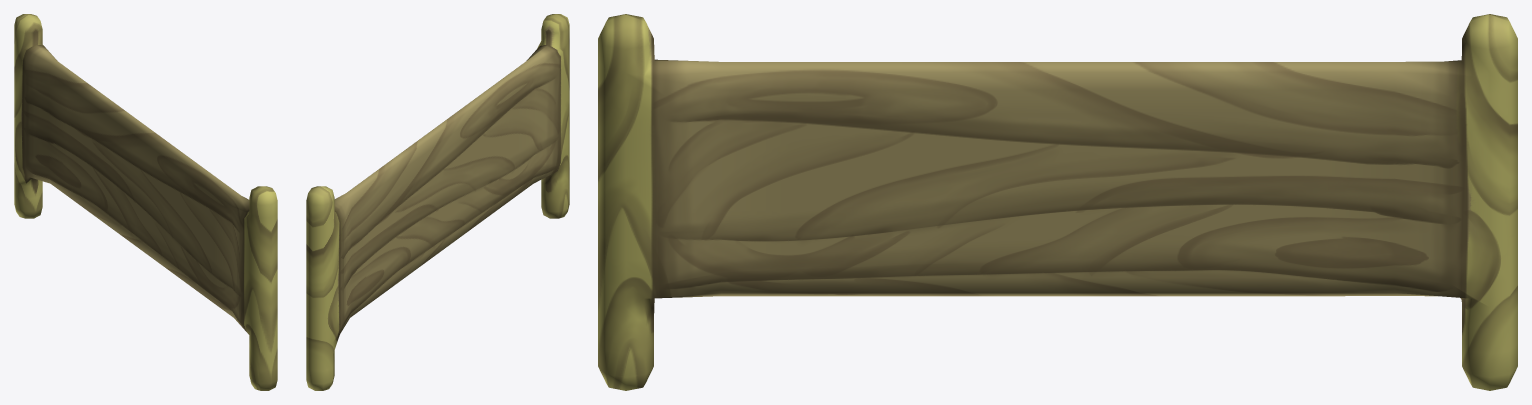
The model's file is catwalkrailing.fbx.
3 views of the same model, side by side, from view 1: azimuth 30°, elevation 25°; view 2: azimuth 150°, elevation 25°; view 3: azimuth 270°, elevation 25° (orthographic). The views are drawn at different scales.
Visible parts, largest first — view 1: catwalkrailing; view 2: catwalkrailing; view 3: catwalkrailing.
Part boxes in pixels (x1,y1,x2,y2): catwalkrailing: (14,14,277,390); catwalkrailing: (306,14,569,390); catwalkrailing: (598,14,1517,390).
Bounding box in the file's own units: 11.01 × 194 × 87.22.
